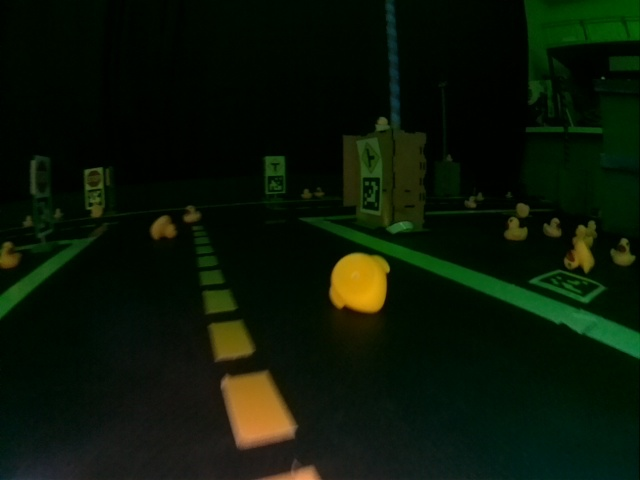Duckie: (330, 253, 389, 311), (563, 245, 593, 273), (610, 238, 635, 266), (151, 216, 176, 239), (504, 217, 527, 240), (0, 241, 18, 268), (572, 227, 591, 246), (545, 218, 561, 236), (183, 206, 199, 223), (465, 195, 474, 207), (302, 189, 311, 198)
Intersection sign: (360, 146, 382, 174), (270, 160, 283, 174)
QR code: (533, 271, 604, 302), (361, 179, 379, 210), (268, 176, 282, 193), (87, 189, 102, 204)
Stop sign: (86, 172, 102, 187)
